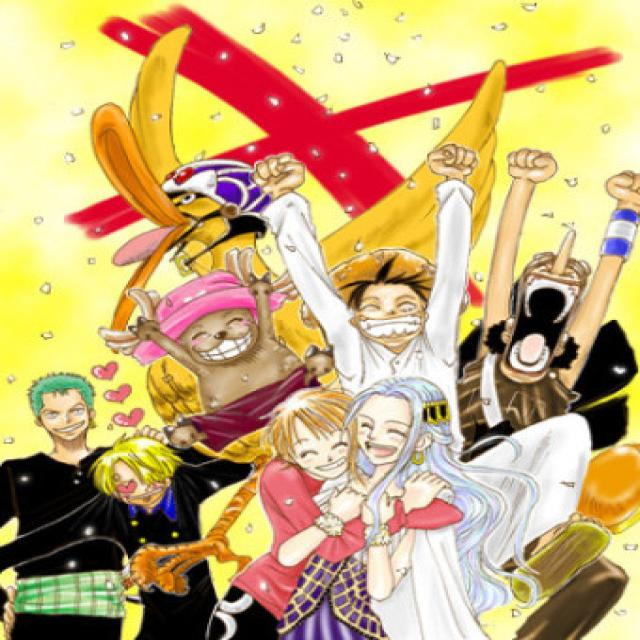Chyopa: (120, 250, 294, 401)
Luffy: (327, 250, 444, 356)
Nami: (254, 379, 374, 479)
Sangdi: (90, 426, 182, 522)
Usopp: (488, 224, 609, 380)
Zoro: (28, 369, 106, 447)
